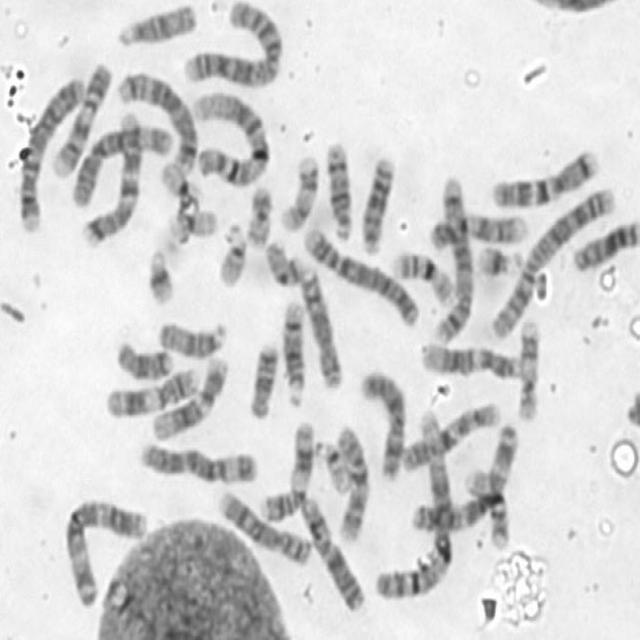A1: (372, 405, 454, 601), (191, 88, 270, 188)
A2: (488, 186, 616, 341), (180, 0, 282, 86)
A3: (408, 423, 520, 534), (65, 494, 146, 608)
B4: (303, 226, 421, 330), (18, 74, 86, 233)
B5: (114, 72, 199, 175), (434, 176, 474, 348)
C10: (400, 399, 502, 474), (336, 426, 370, 544)
C11: (258, 420, 315, 523), (106, 368, 201, 419)
C12: (152, 357, 230, 443), (419, 344, 520, 381)
C6: (73, 127, 174, 210), (140, 441, 256, 486)
C7: (82, 111, 143, 245), (489, 145, 602, 209)
C8: (216, 492, 313, 567), (299, 267, 344, 393)
C9: (50, 61, 116, 179), (425, 211, 530, 248)
D13: (358, 155, 399, 256), (570, 221, 640, 271)
D14: (325, 140, 353, 243), (283, 303, 306, 408)
D15: (114, 3, 199, 47), (158, 320, 227, 362)
E16: (465, 469, 511, 551), (392, 250, 454, 306)
E17: (279, 154, 321, 233), (516, 317, 539, 423)
E18: (247, 344, 277, 421), (115, 341, 172, 381)
F19: (161, 159, 206, 205), (168, 206, 219, 241)
F20: (264, 237, 305, 290), (248, 187, 272, 248)
G21: (147, 245, 176, 307), (474, 245, 525, 280)
G22: (314, 440, 351, 494), (218, 222, 247, 288)
X: (299, 496, 366, 614), (358, 372, 407, 482)
